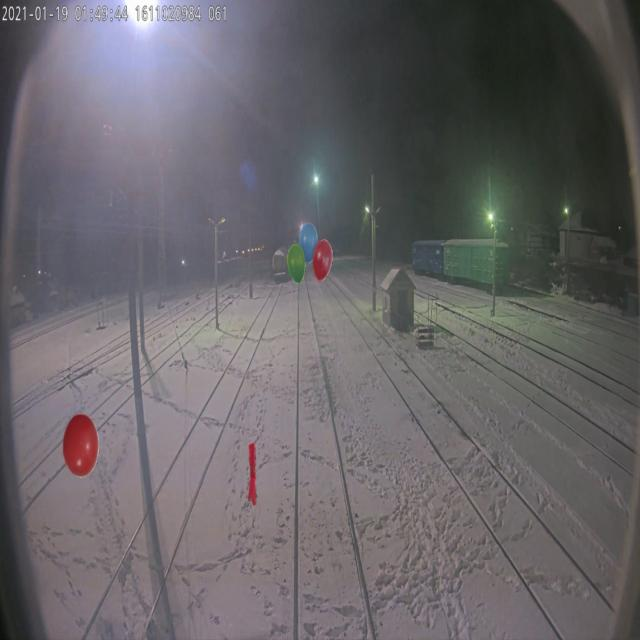balloon: (287, 221, 333, 285), (62, 413, 99, 478)
floating object: (248, 442, 257, 506)
